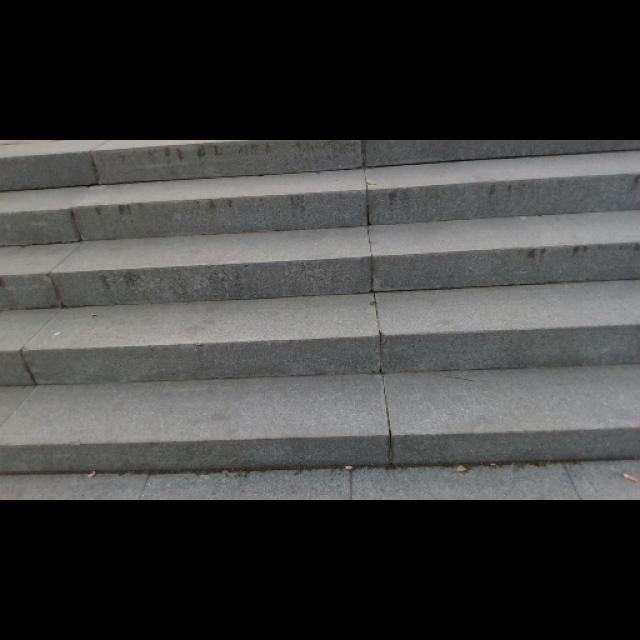Stairs: (0, 139, 639, 479)
